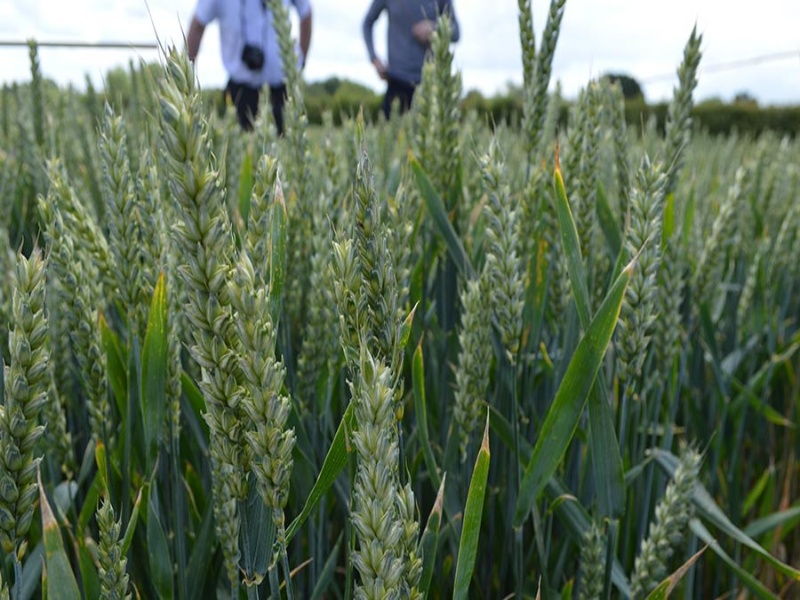wheat: (142, 37, 311, 563), (10, 146, 132, 478), (326, 118, 429, 384), (333, 341, 432, 591), (1, 236, 60, 585), (408, 13, 471, 210), (509, 1, 569, 178), (631, 453, 705, 593), (659, 26, 719, 193), (568, 516, 628, 591), (91, 498, 133, 599)
